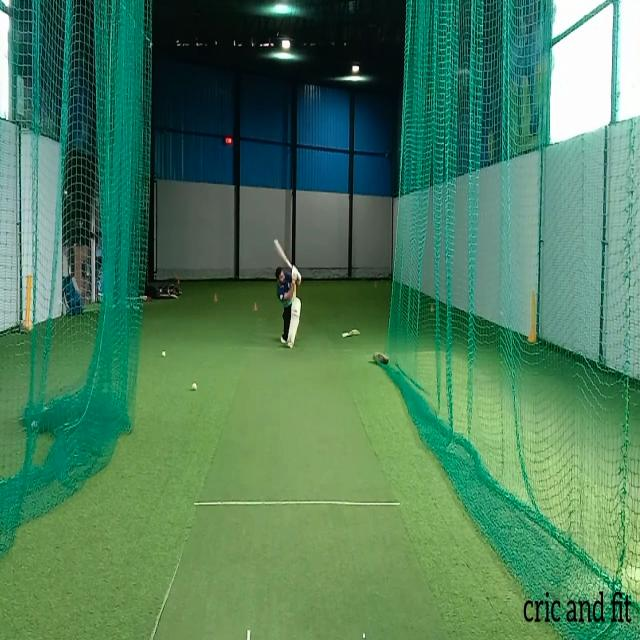batsman: (273, 238, 302, 349)
